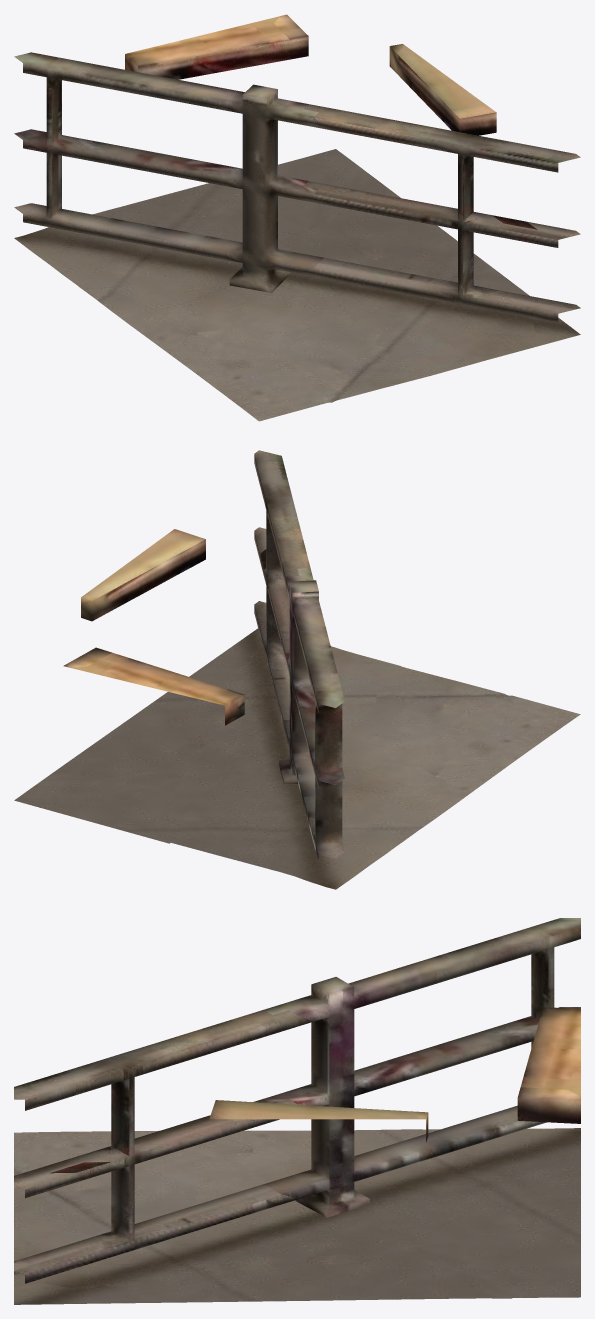
The picture shows the model from 3 angles, top to bottom: view 1: azimuth 30°, elevation 25°; view 2: azimuth 150°, elevation 25°; view 3: azimuth 270°, elevation 25°; orthographic projection. The views are drawn at different scales.
Size of the model in its own units: 1.75 by 1.01 by 2.3.
Materials: 1 (1 with a texture image).
